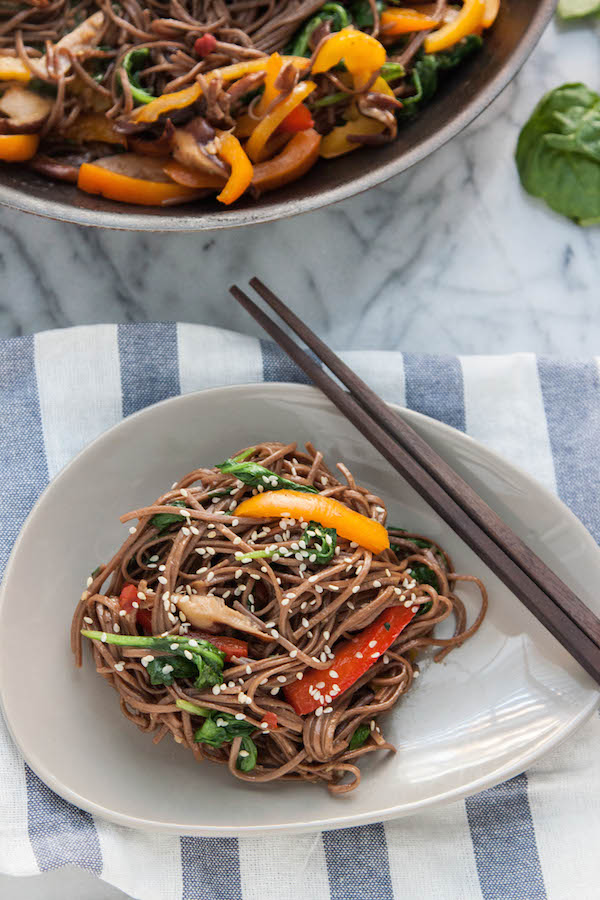Soba: (92, 446, 460, 793)
